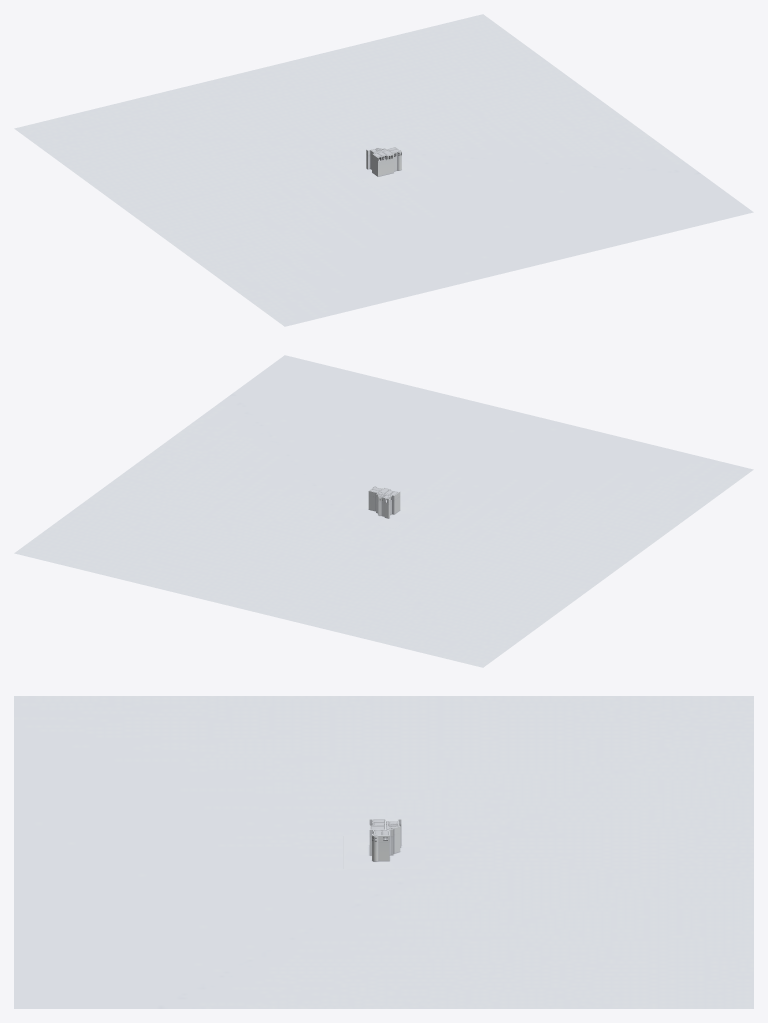
File: asset-78.glb
The picture shows the model from 3 angles, top to bottom: view 1: azimuth 30°, elevation 25°; view 2: azimuth 150°, elevation 25°; view 3: azimuth 270°, elevation 25°; orthographic projection. The views are drawn at different scales.
Parts seen in each view (by area): view 1: Base; view 2: Base; view 3: Base.
Part boxes in pixels (x1,y1,x2,y2): Base: (14,14,753,326); Base: (14,355,753,667); Base: (14,696,753,1008).
Size of the model in its own units: 360 by 13.76 by 360.
36 materials, 36 textured.
